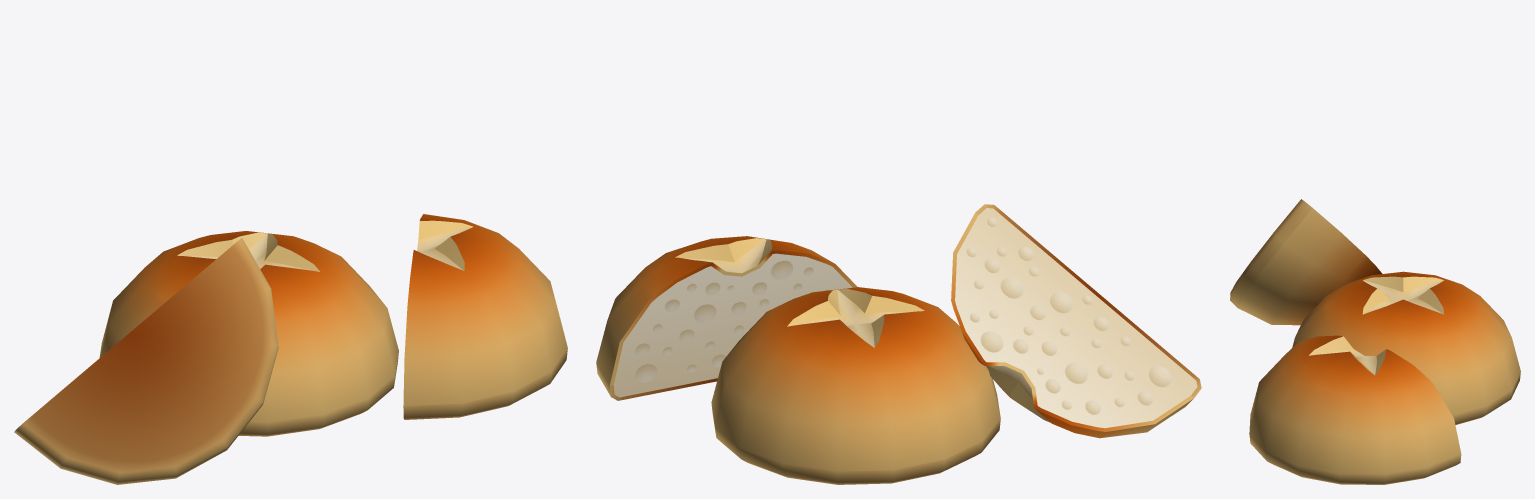
File: Bread_001.FBX
3 renders of one model, left to right at view 1: azimuth 30°, elevation 25°; view 2: azimuth 150°, elevation 25°; view 3: azimuth 270°, elevation 25°, orthographic. The views are drawn at different scales.
Visible parts, largest first — view 1: Sphere003, Sphere001, Sphere002; view 2: Sphere001, Sphere003, Sphere002; view 3: Sphere002, Sphere001, Sphere003.
Part boxes in pixels (<box>): Sphere003: <box>14,238,278,484</box>; Sphere001: <box>99,231,398,436</box>; Sphere002: <box>403,214,567,419</box>; Sphere001: <box>711,287,1000,484</box>; Sphere003: <box>951,204,1201,438</box>; Sphere002: <box>596,236,857,400</box>; Sphere002: <box>1249,335,1461,484</box>; Sphere001: <box>1292,271,1520,424</box>; Sphere003: <box>1230,199,1382,325</box>.
Bounding box in the file's own units: 86.8 × 61.15 × 49.69.
2 materials, 2 textured.
